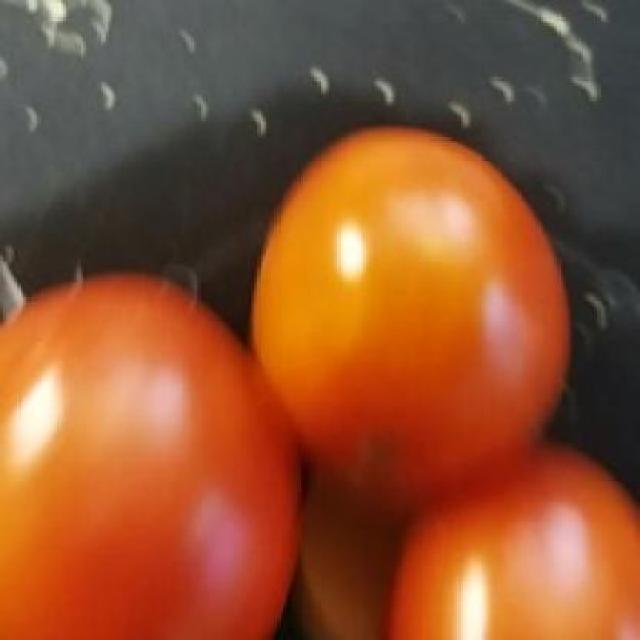Fresh Tomato: (246, 122, 574, 500), (0, 263, 299, 640), (378, 446, 640, 639)
